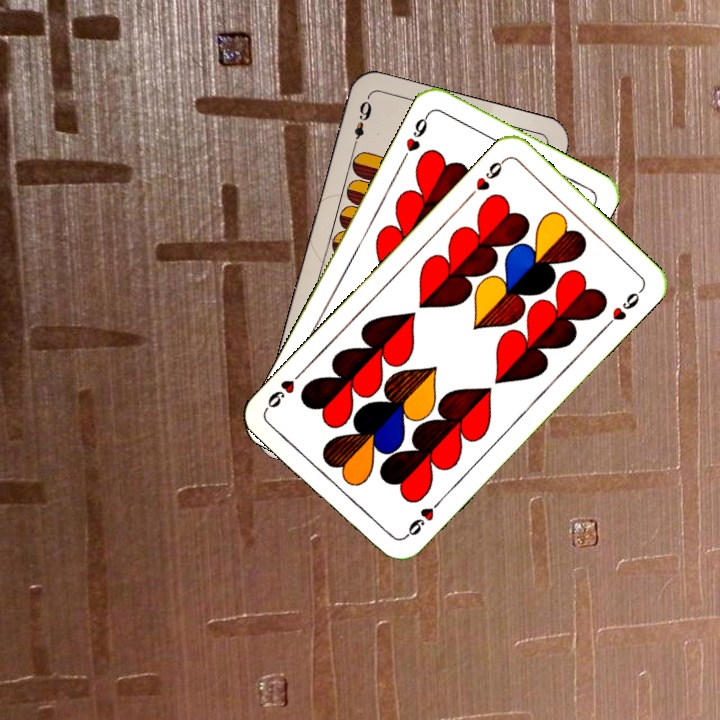E9: (348, 94, 375, 152)
H9: (399, 495, 445, 542), (464, 154, 509, 201), (398, 109, 432, 164)
